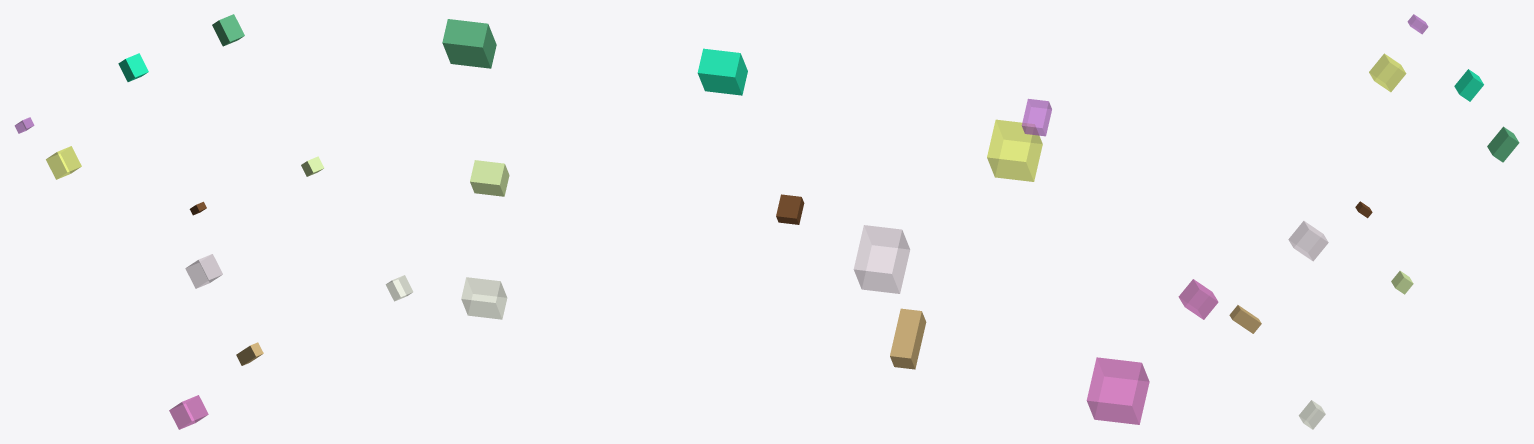
Rendered from batchedColorsMix.glb.
3 renders of one model, left to right at view 1: azimuth 30°, elevation 25°; view 2: azimuth 150°, elevation 25°; view 3: azimuth 270°, elevation 25°, orthographic. The views are drawn at different scales.
Size of the model in its own units: 200 by 145 by 161.
